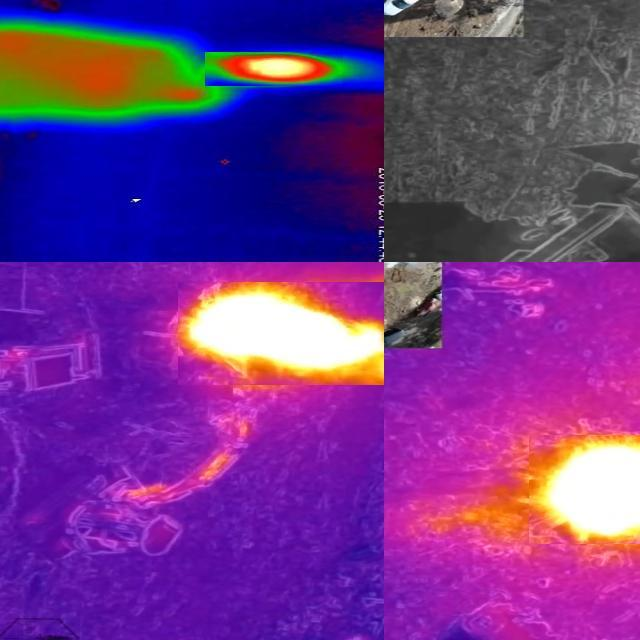fire: (179, 282, 385, 385), (530, 435, 640, 544), (206, 52, 344, 86)
